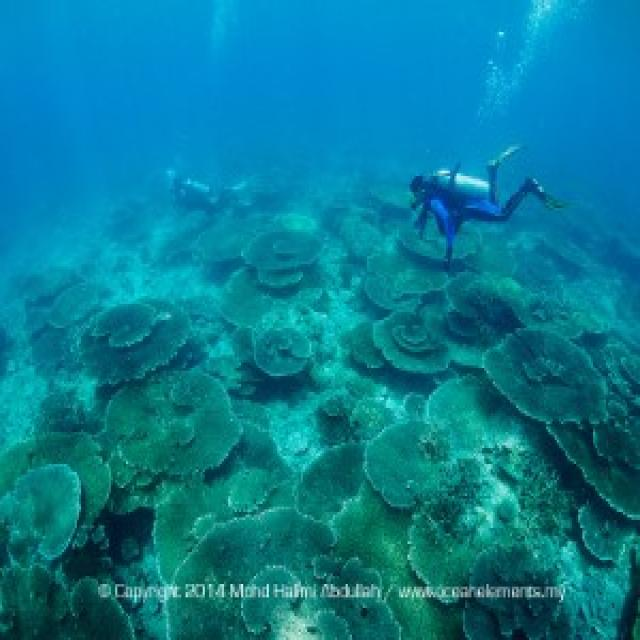Healthy: (406, 377, 588, 588), (155, 425, 293, 580), (106, 369, 242, 508), (408, 460, 524, 585), (1, 433, 110, 558), (176, 508, 334, 588), (485, 329, 607, 422), (1, 564, 133, 638), (84, 300, 193, 385), (225, 228, 321, 324), (434, 276, 530, 366), (549, 422, 639, 518), (170, 601, 400, 638), (336, 481, 415, 585), (364, 225, 447, 308), (347, 310, 449, 374), (423, 377, 513, 449), (366, 422, 432, 508), (300, 446, 364, 518), (466, 601, 571, 638), (231, 329, 310, 377), (321, 393, 396, 441), (33, 433, 78, 510), (108, 417, 204, 449), (472, 545, 554, 580), (581, 505, 632, 561), (534, 300, 603, 337), (594, 422, 639, 470), (607, 345, 639, 393), (334, 561, 379, 582)
